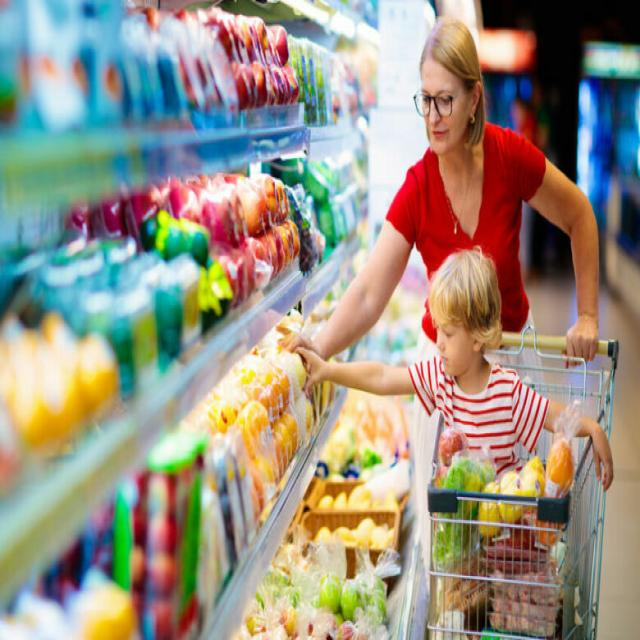Person: (279, 15, 599, 368), (297, 249, 614, 489)
